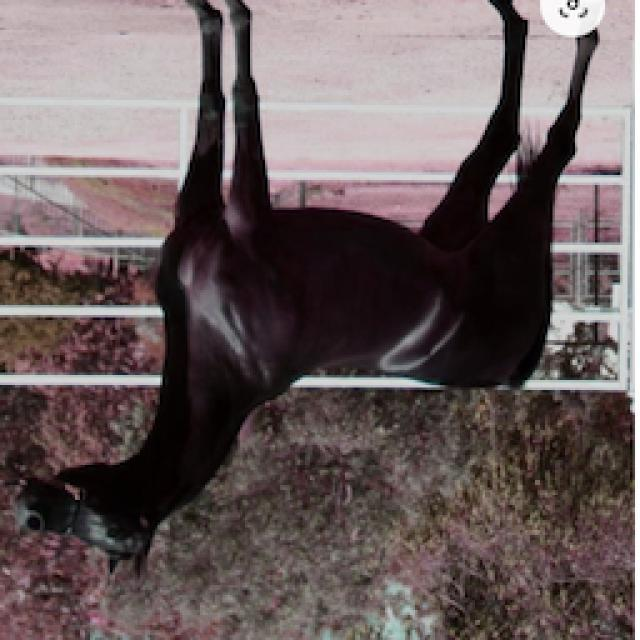Horse: (5, 2, 608, 586)
